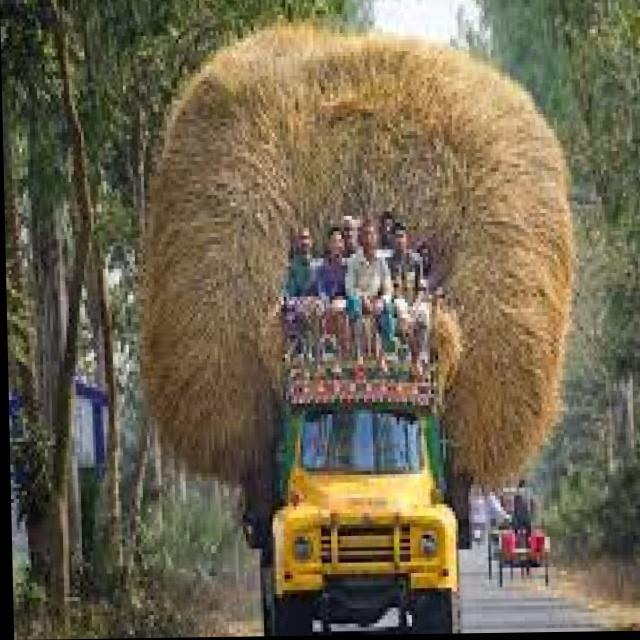uncovered: (138, 16, 579, 638)
